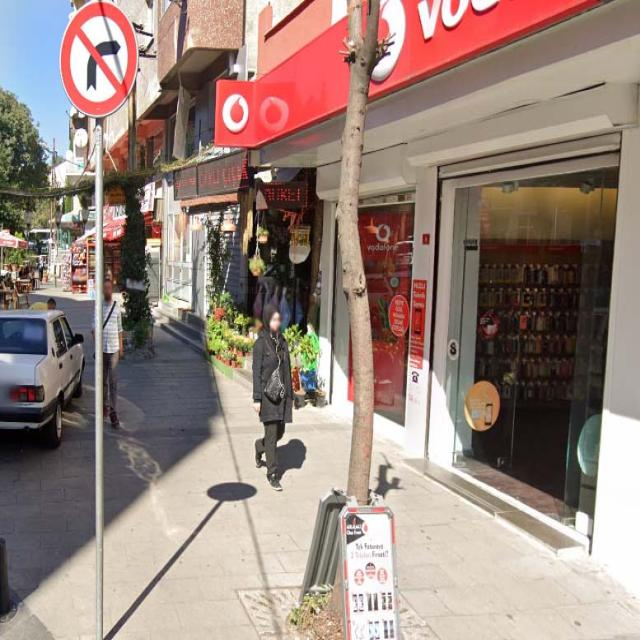sagadonulmez: (60, 1, 138, 118)
